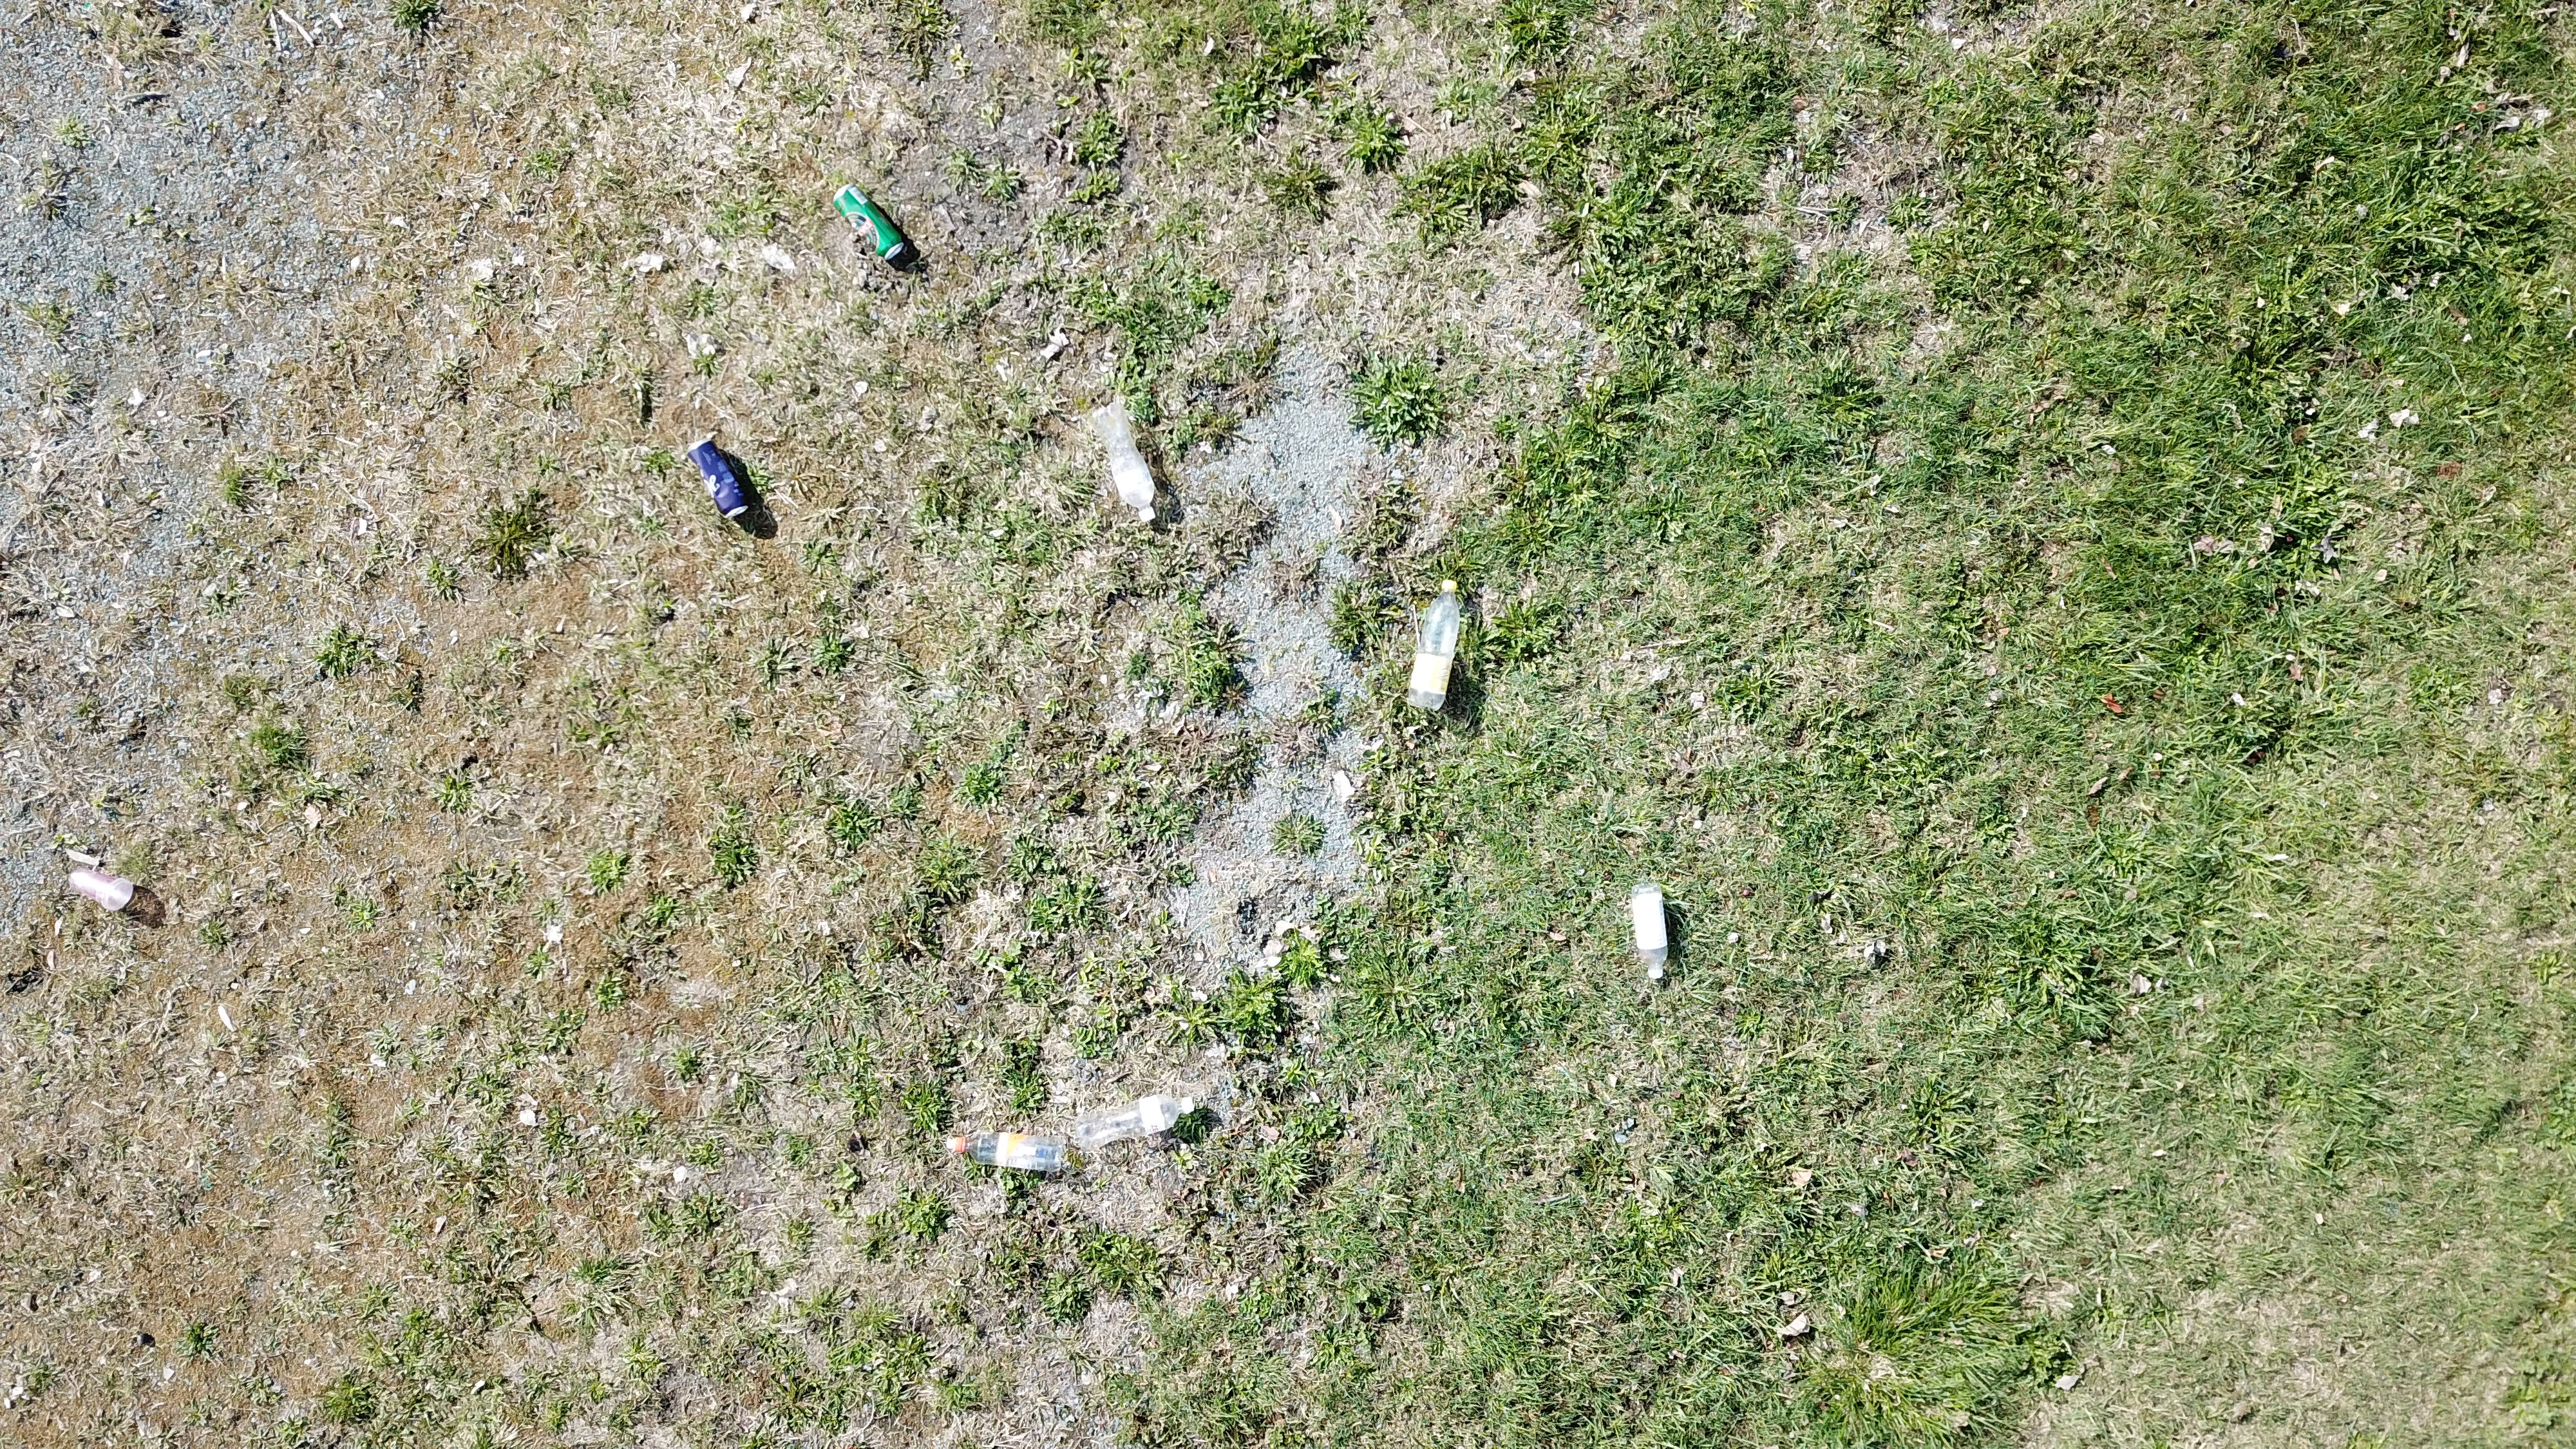Can: (832, 188, 909, 264), (686, 437, 748, 520)
Plastic: (67, 867, 134, 911)
PlasticBottle: (1092, 402, 1157, 524), (1070, 1093, 1196, 1148), (1408, 579, 1460, 711), (941, 1132, 1070, 1175), (1628, 885, 1672, 980)
